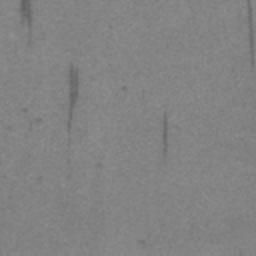Red iron sheet: (66, 63, 80, 134), (18, 0, 34, 46), (246, 0, 256, 68), (162, 112, 169, 158)
